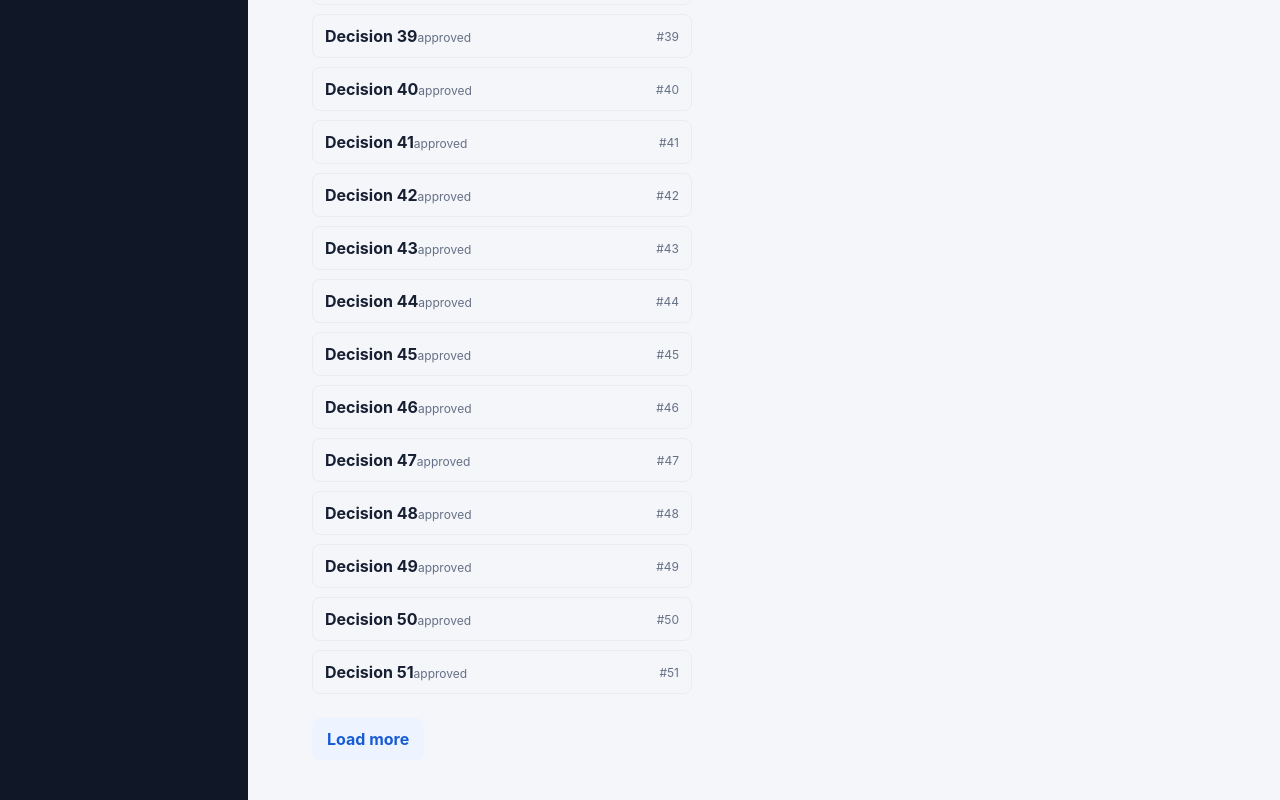
Test: D4 canon flows › browses, loads more, searches, and displays decision changes
This screenshot has width=1280, height=800.
(page scrolled)
Click the button "Load more". click: click(368, 739)
box: x1=312 y1=718 x2=424 y2=760
(page scrolled)
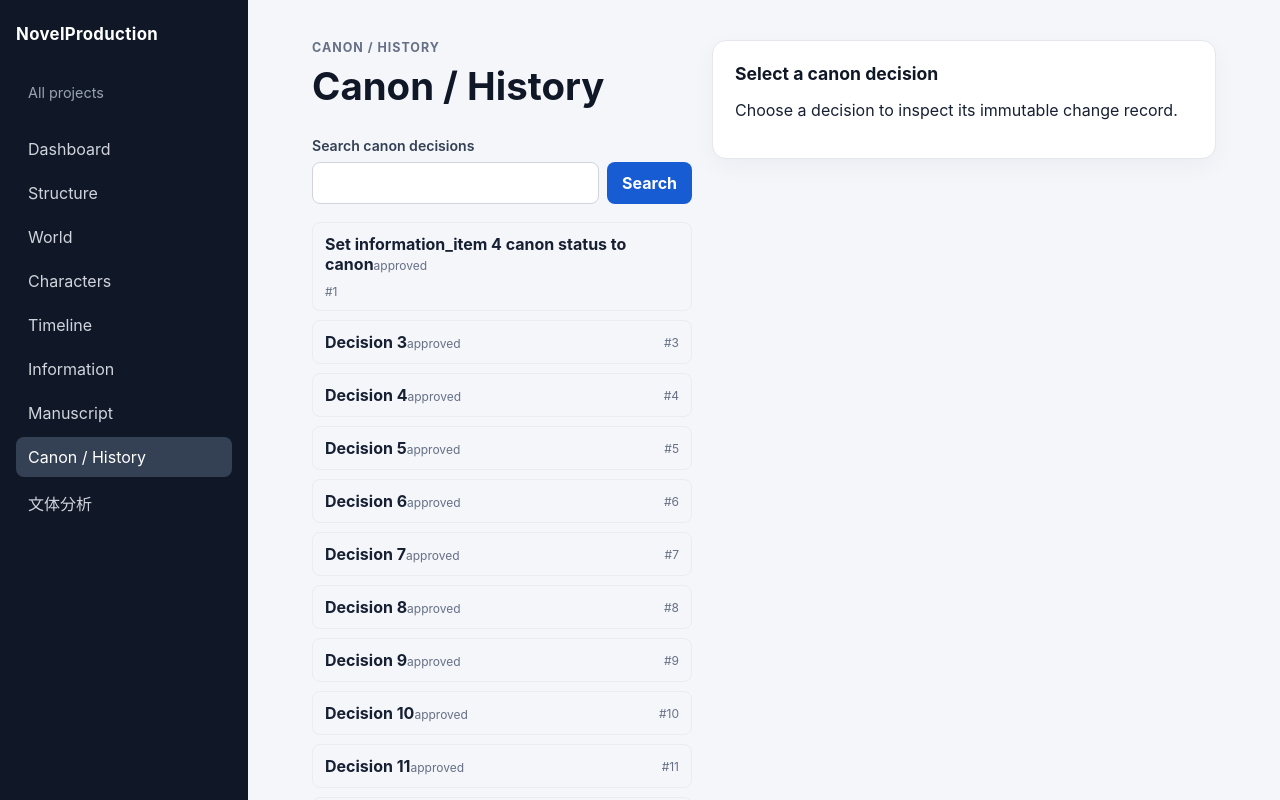
Type "approved" into the search field labelled "Search canon decisions". click: (456, 183)
box: x1=312 y1=162 x2=599 y2=204
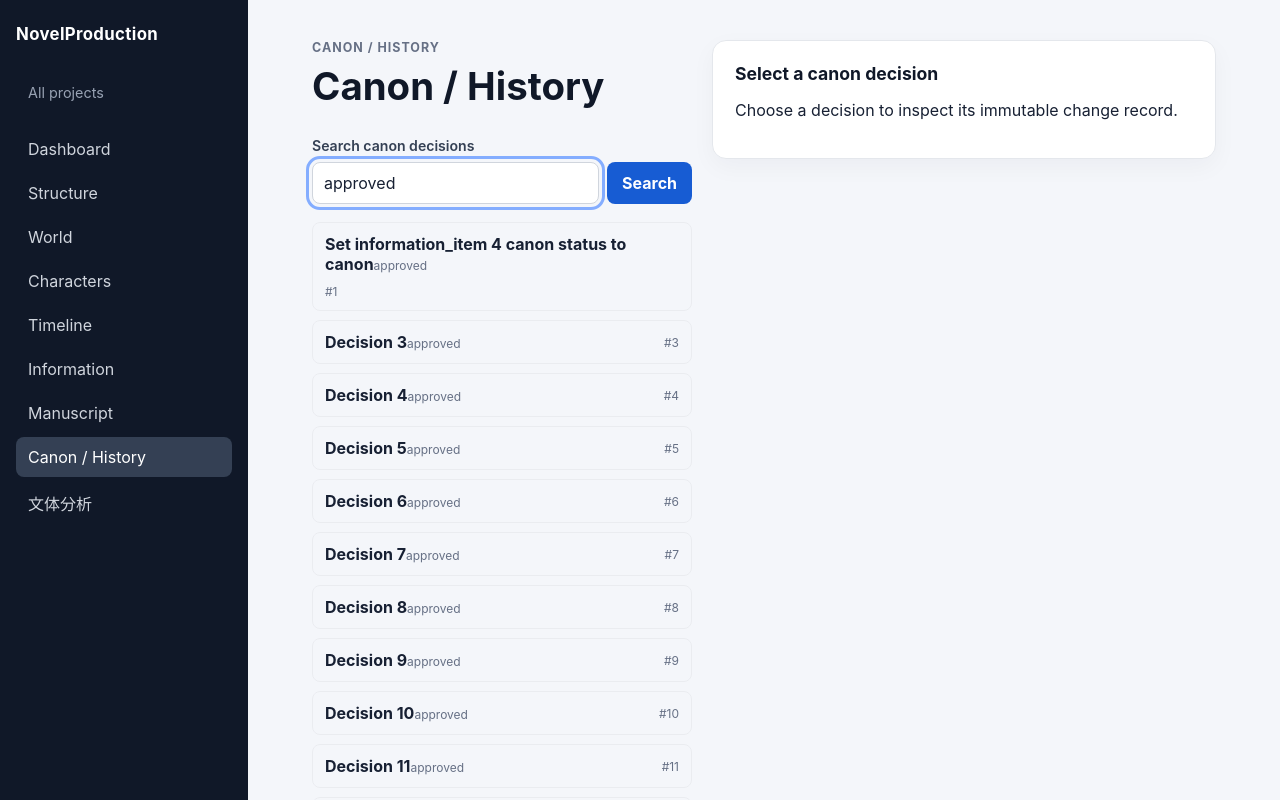
Click the button "Search". click: click(650, 183)
box: x1=607 y1=162 x2=692 y2=204
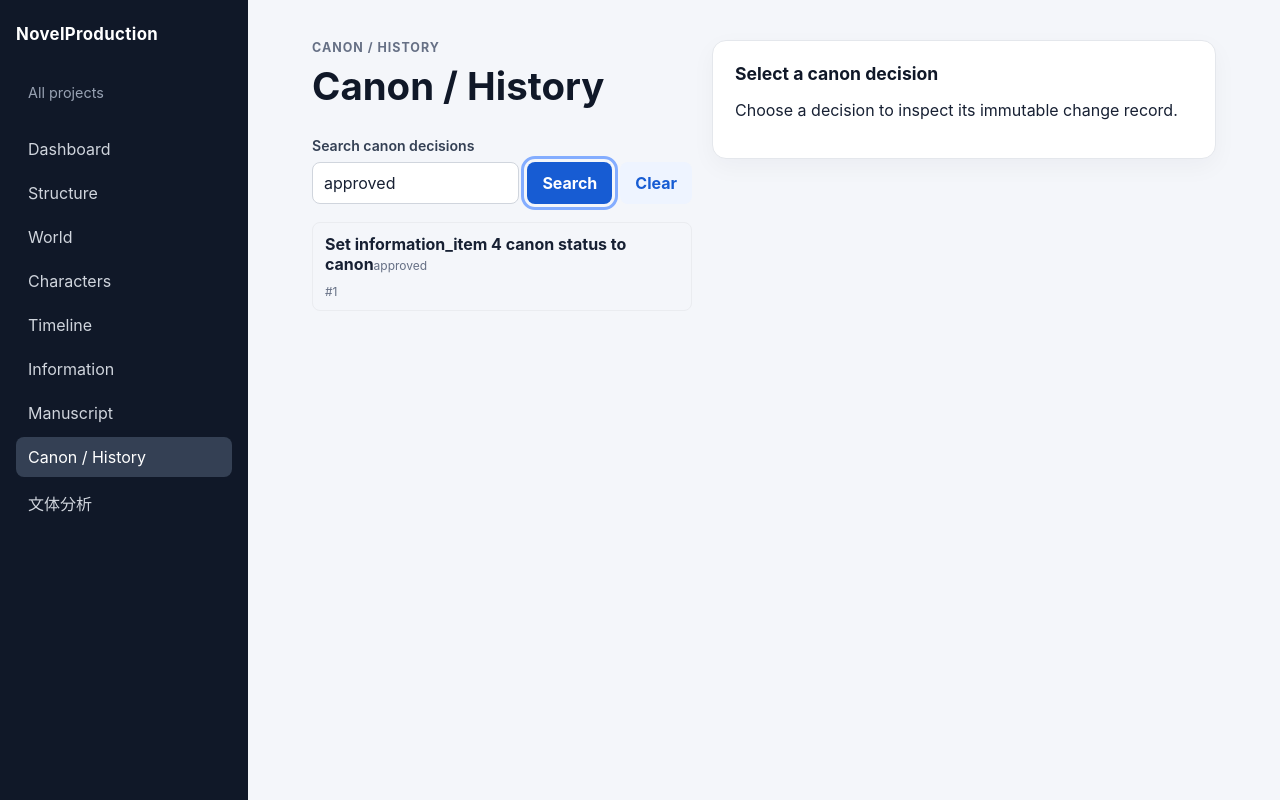
Click the link "Set information_item 4 canon status". click: click(476, 244)
box: x1=312 y1=222 x2=692 y2=311
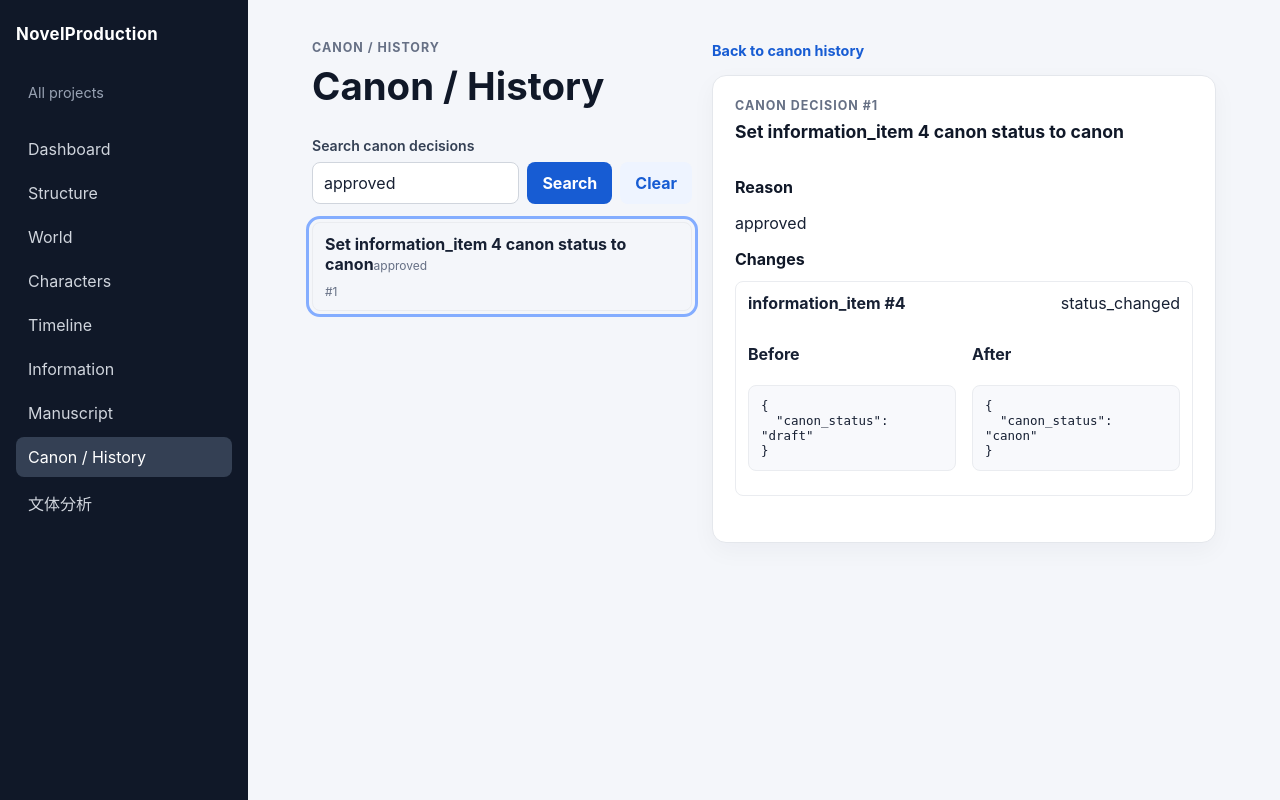
Check: the text "status_changed" is shown, box x1=1061 y1=293 x2=1180 y2=313
